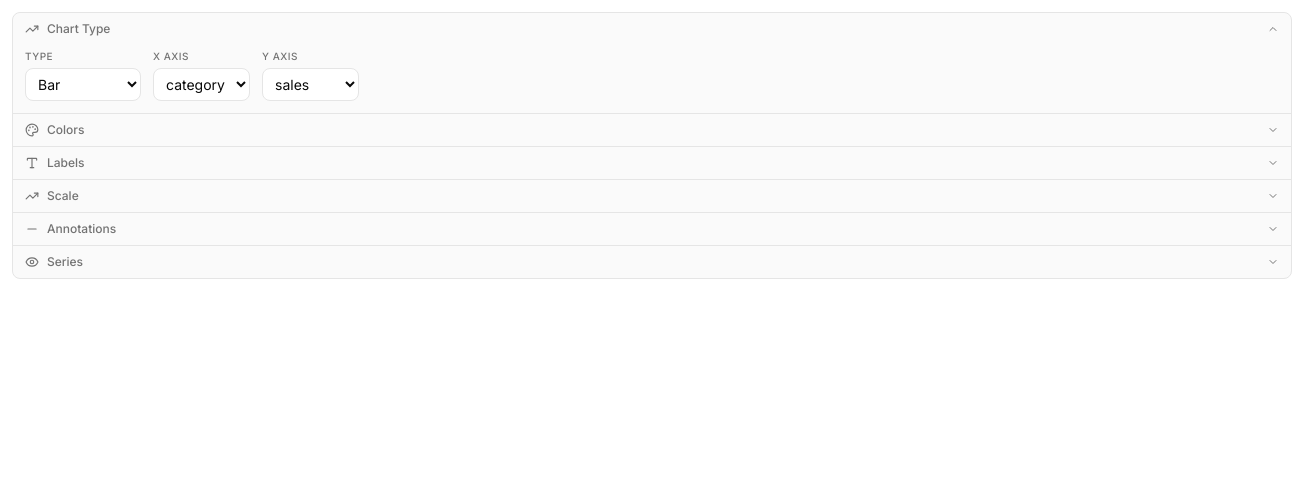
Scenario: ChartEditor › Label editing › provides axis label inputs
Click the button with test id "section-toggle-labels" at (66, 162), box [13,147,1291,179]
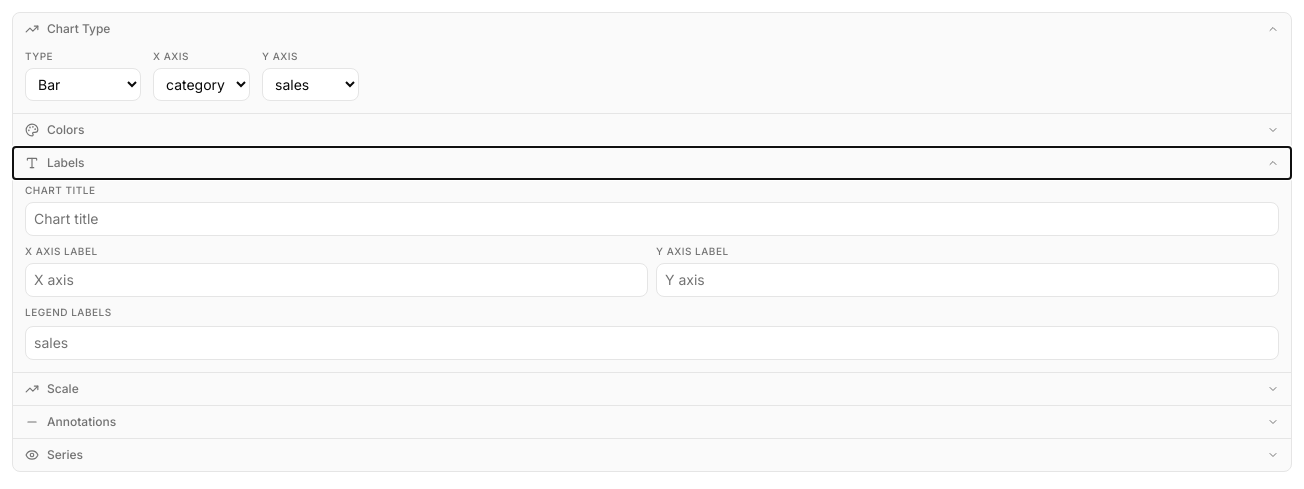
Expected: the field with test id "label-x-axis" is shown, [25,263,648,297]
Expected: the field with test id "label-y-axis" is shown, [656,263,1279,297]
